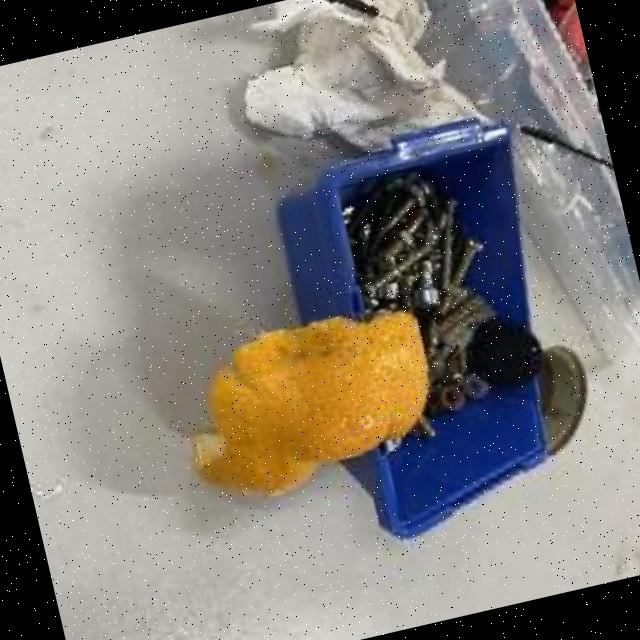orange-peel: (166, 291, 451, 512)
